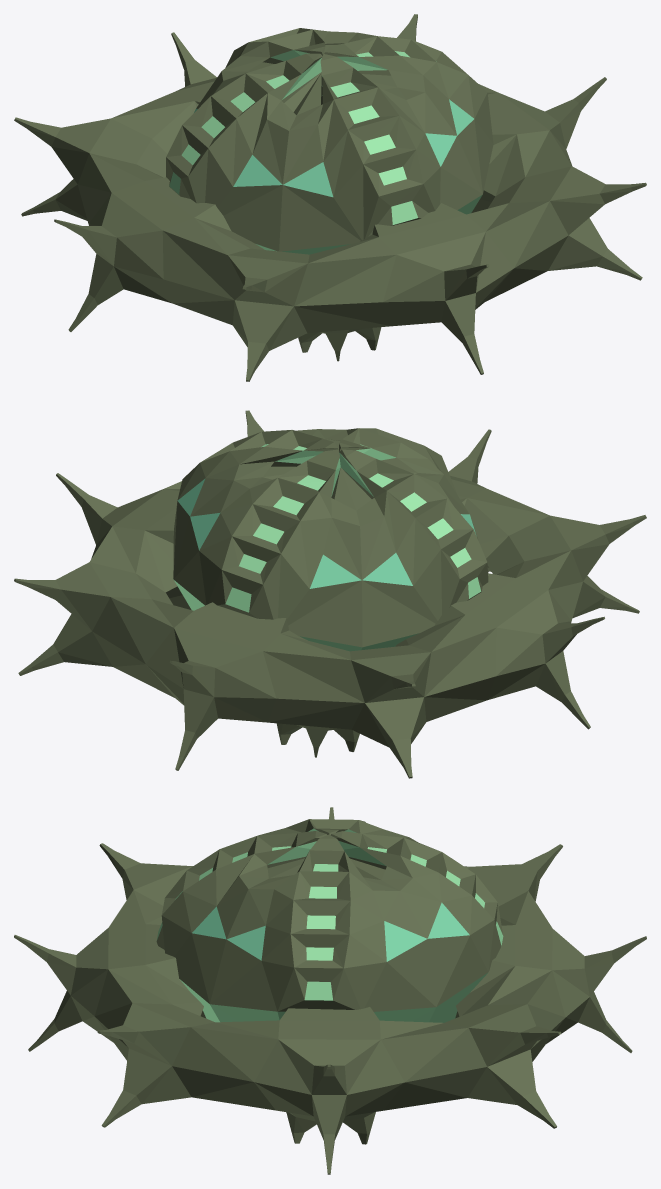
File: station2.dae
3 views of the same model, one above another, from view 1: azimuth 30°, elevation 25°; view 2: azimuth 150°, elevation 25°; view 3: azimuth 270°, elevation 25° (orthographic).
Visible parts, largest first — view 1: Torus; view 2: Torus; view 3: Torus.
Boxes of the visible parts, box(x1,y1,x2,y2) form: Torus: box(14, 14, 646, 381); Torus: box(14, 410, 646, 778); Torus: box(14, 807, 646, 1174).
Bounding box in the file's own units: 10.72 × 10.72 × 5.56.
